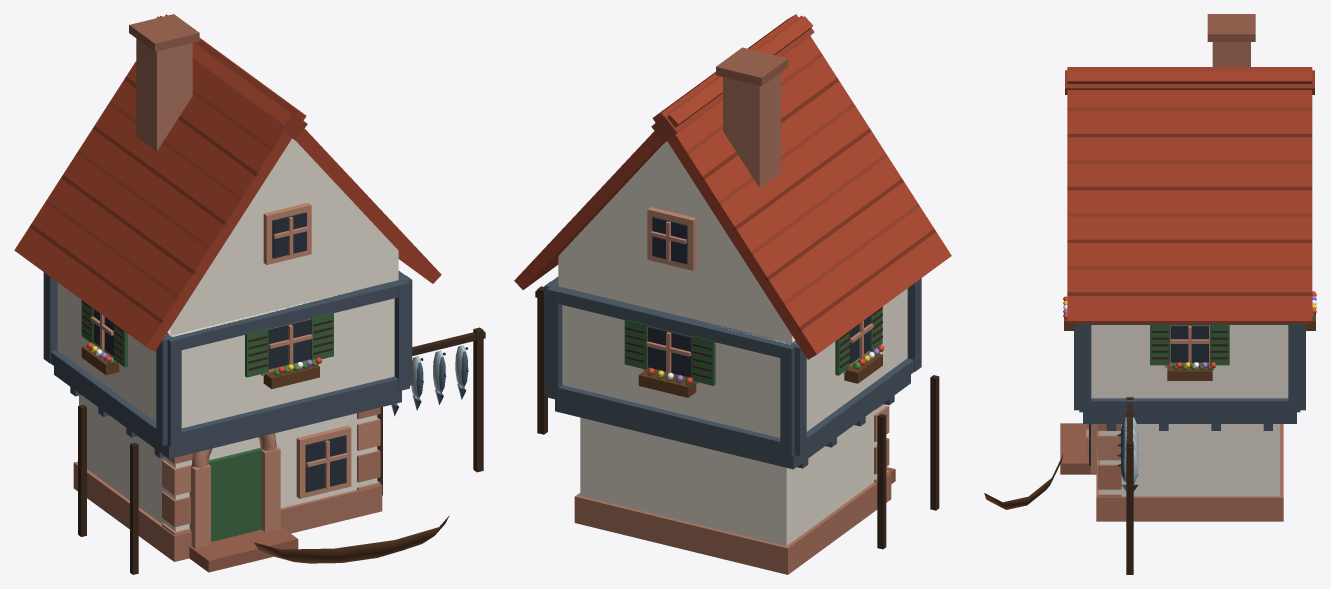
File: fischer.glb
The picture shows the model from 3 angles, left to right: view 1: azimuth 30°, elevation 25°; view 2: azimuth 150°, elevation 25°; view 3: azimuth 270°, elevation 25°; orthographic projection. The views are drawn at different scales.
Bounding box in the file's own units: 3.33 × 3.97 × 2.8.
